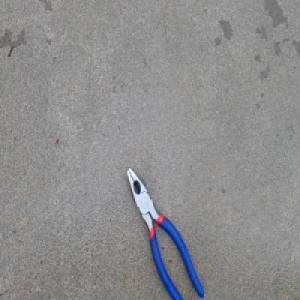Pliers: (123, 165, 202, 300)
